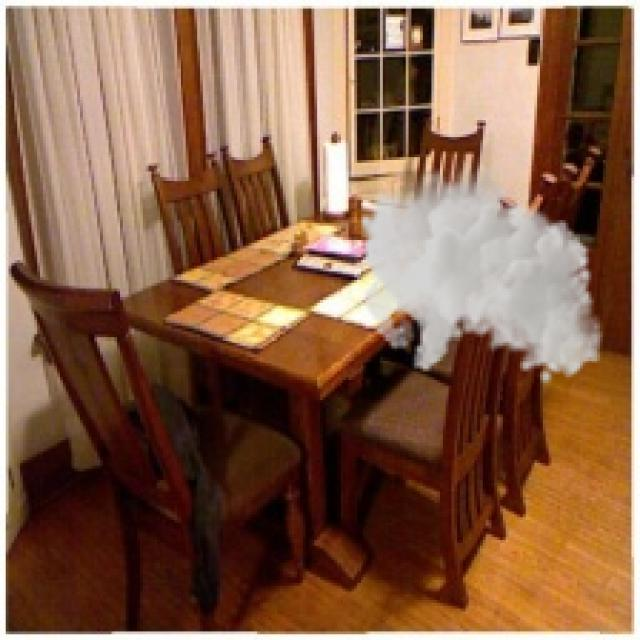smoke: (357, 160, 603, 386)
